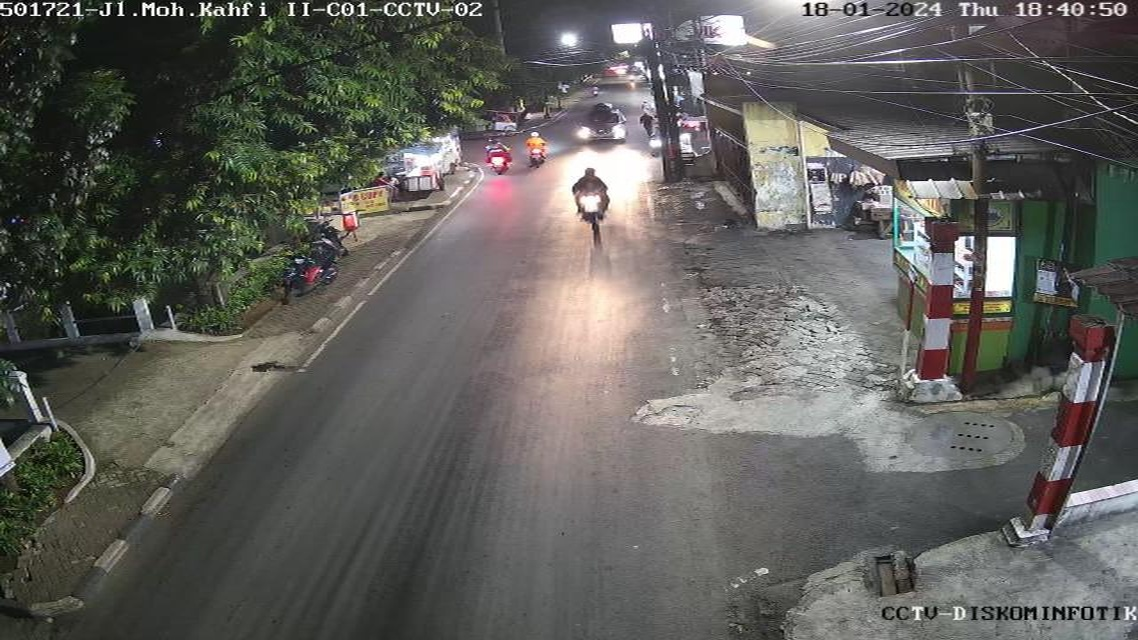Gerobak: (297, 184, 368, 242), (397, 143, 443, 199), (487, 104, 526, 143), (430, 136, 464, 174)
